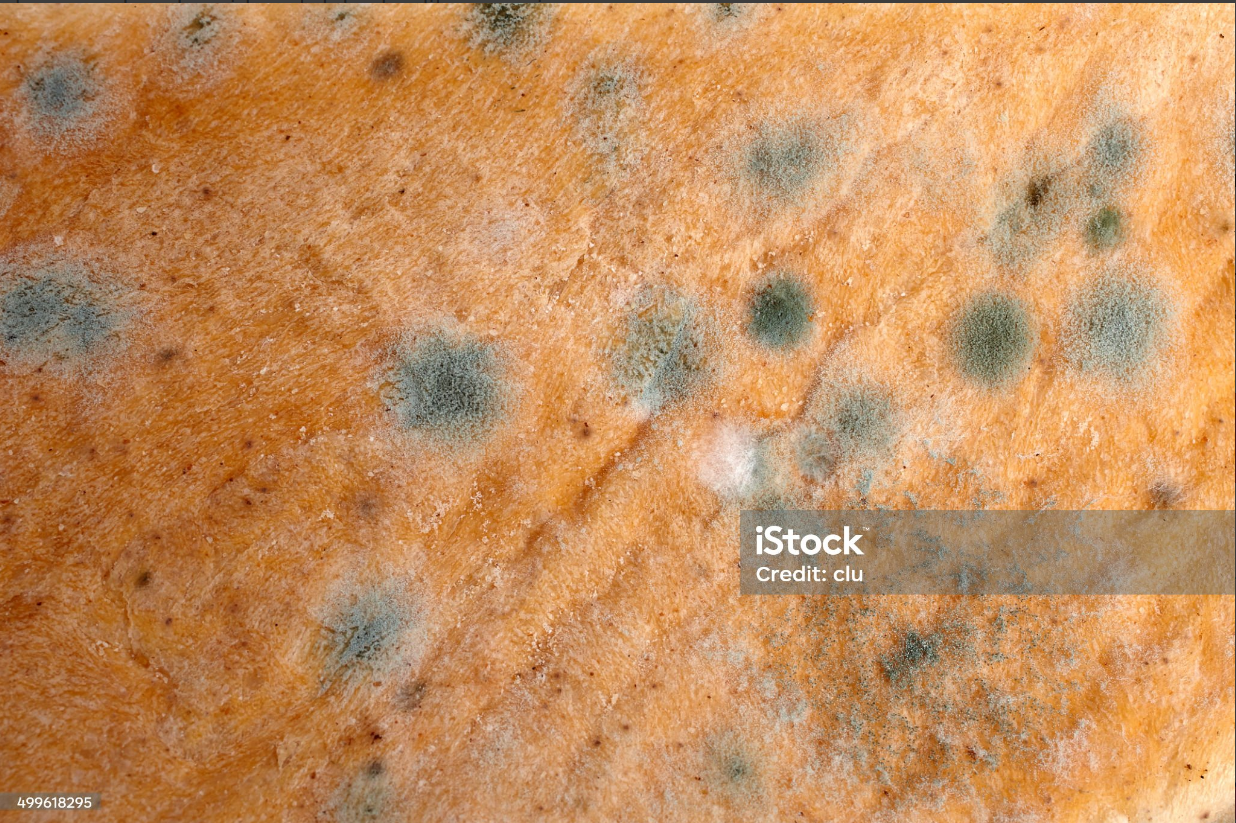mold_bread: (845, 605, 1031, 718), (2, 247, 138, 382), (317, 572, 442, 699), (1061, 264, 1184, 389), (591, 288, 713, 414), (393, 319, 510, 449), (795, 371, 898, 499), (727, 107, 851, 210), (572, 52, 658, 197), (943, 285, 1044, 393), (23, 43, 104, 154), (737, 264, 824, 361), (990, 171, 1064, 279), (688, 423, 779, 509), (312, 754, 411, 816), (154, 1, 238, 73), (695, 726, 769, 800), (462, 3, 564, 52), (1088, 118, 1144, 179), (1080, 196, 1128, 258), (688, 1, 762, 39), (1149, 469, 1199, 517), (366, 45, 418, 87), (314, 7, 367, 44)
